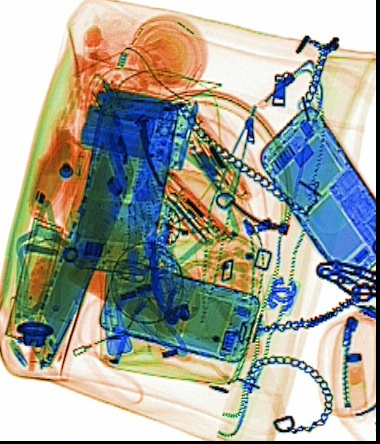powerbank: (75, 81, 196, 170)
